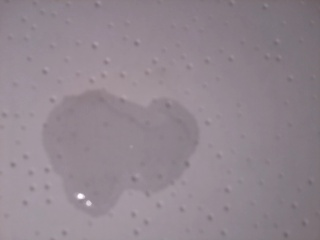Water_detected: (68, 106, 183, 199)
